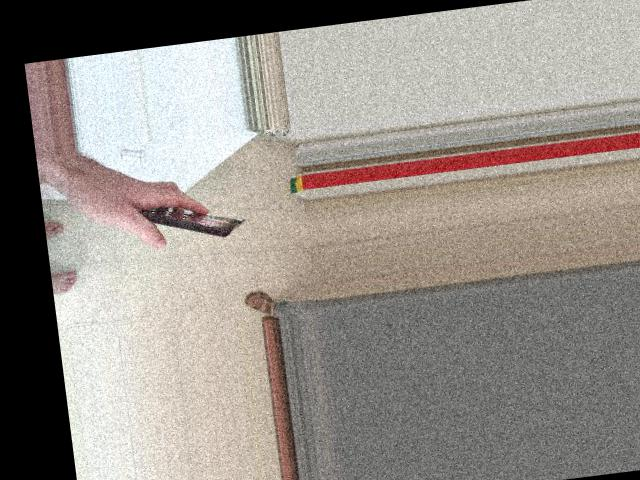chocolate: (68, 175, 244, 257)
